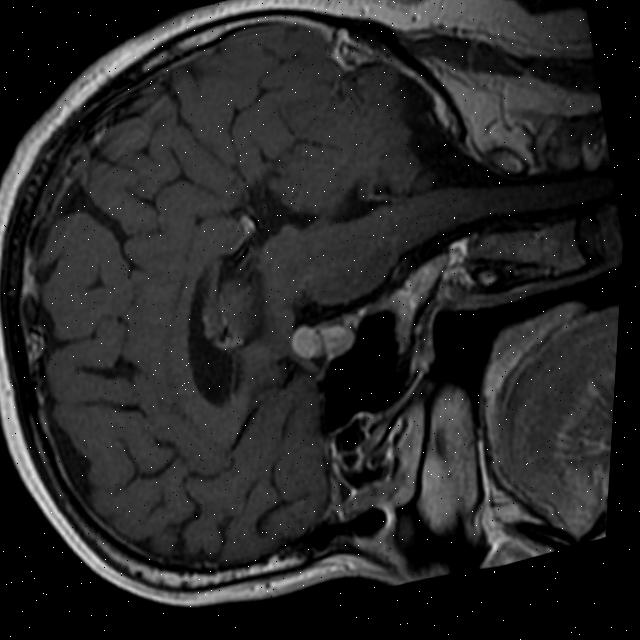Pituitary: (286, 310, 359, 370)
